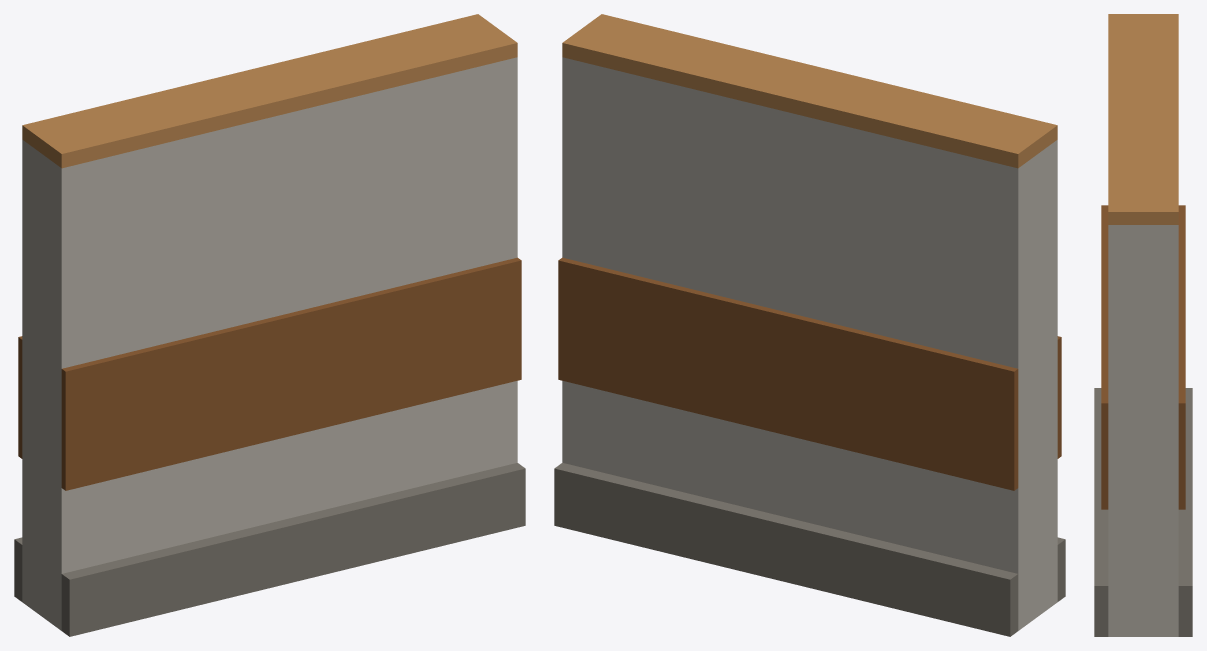
File: partition-full.glb
3 renders of one model, left to right at view 1: azimuth 30°, elevation 25°; view 2: azimuth 150°, elevation 25°; view 3: azimuth 270°, elevation 25°, orthographic. The views are drawn at different scales.
Parts seen in each view (by area): view 1: partition-full; view 2: partition-full; view 3: partition-full.
Part boxes in pixels (x1=…): partition-full: x1=14, y1=14, x2=525, y2=636; partition-full: x1=554, y1=14, x2=1065, y2=636; partition-full: x1=1094, y1=14, x2=1192, y2=636.
Size of the model in its own units: 1 by 1 by 0.21.
Materials: 1 (1 with a texture image).
